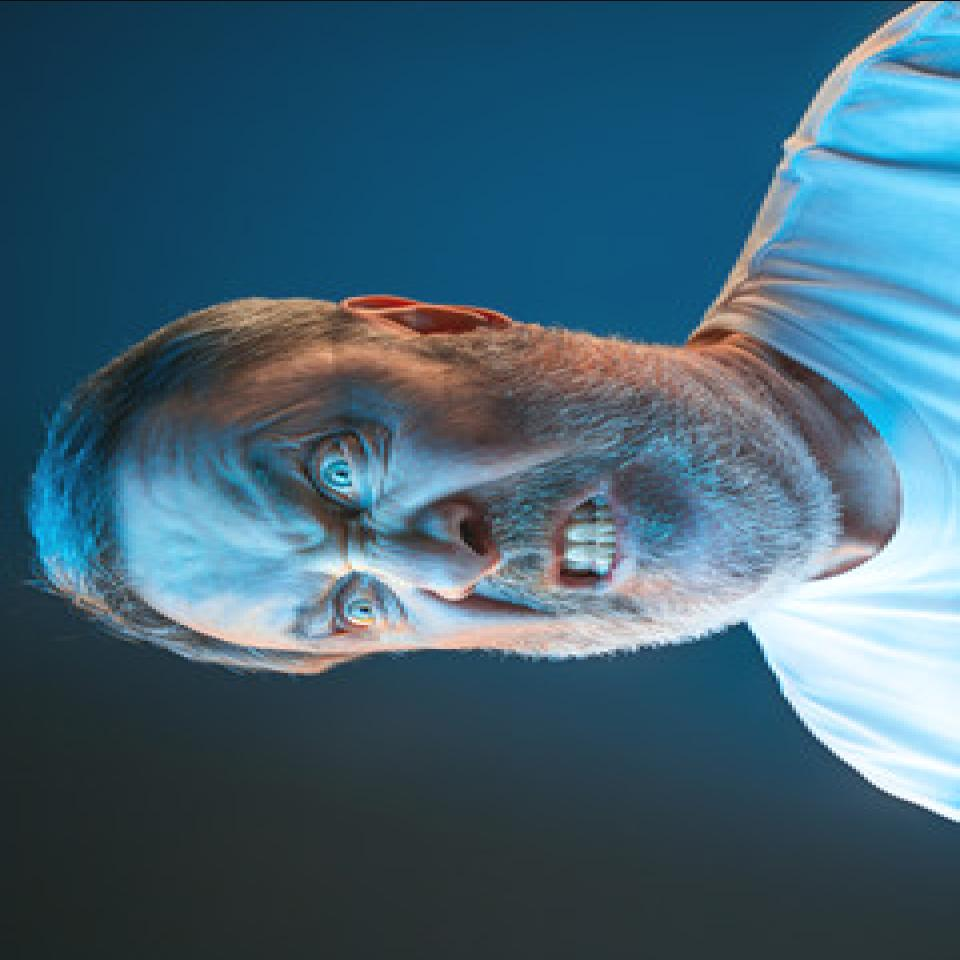Anger: (154, 326, 800, 656)
